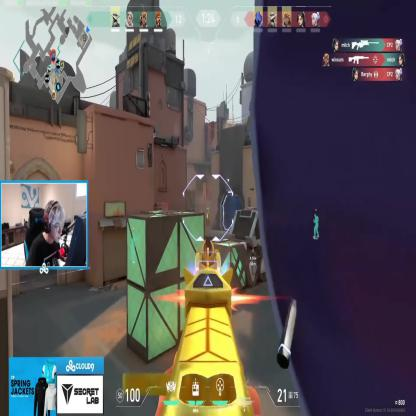enemy: (206, 208, 209, 226)
enemy_head: (207, 208, 208, 212)
